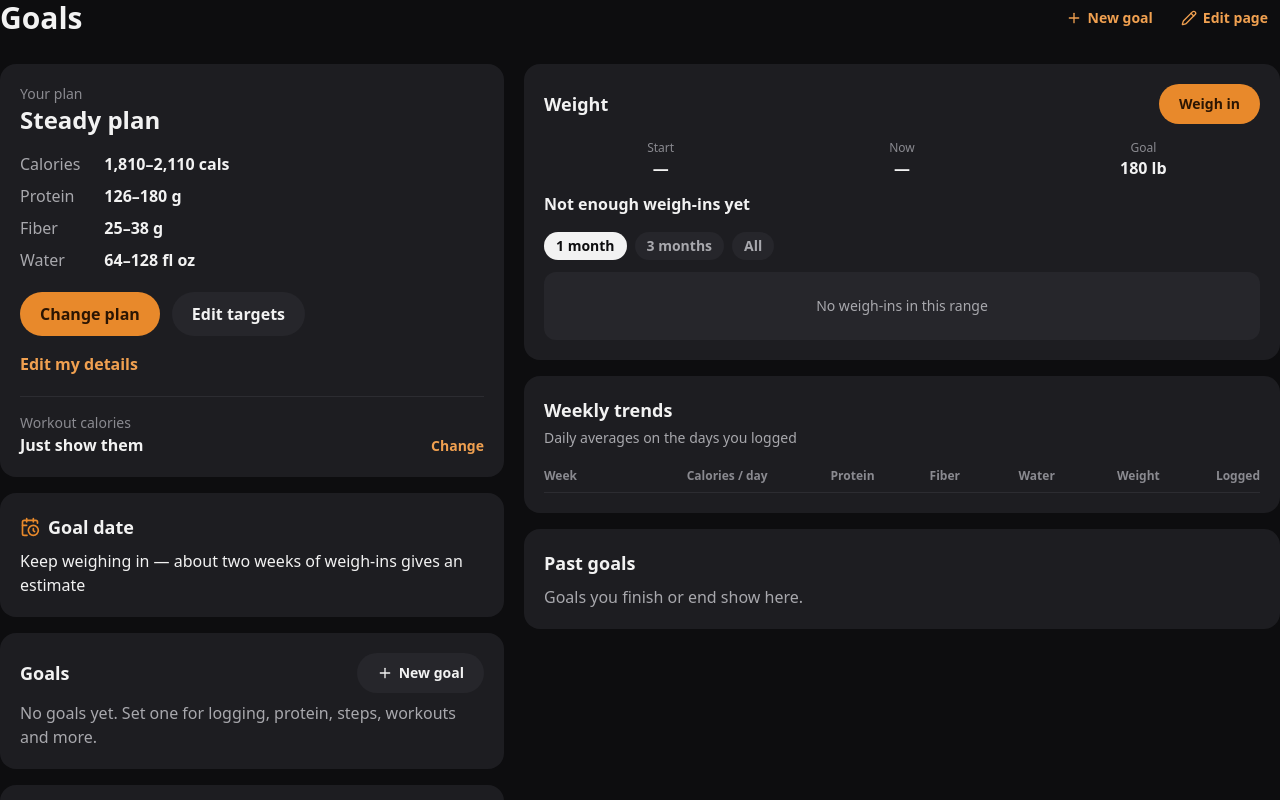
Test case: Goals › Goals shows targets and saves edits
Expected: the heading "Steady plan" is shown, [20, 103, 160, 136]
Expected: the text "1,810–2,110 cals" is shown, [104, 153, 230, 175]
Step 1. Click the button "Edit targets" → [238, 314], box [172, 292, 305, 336]
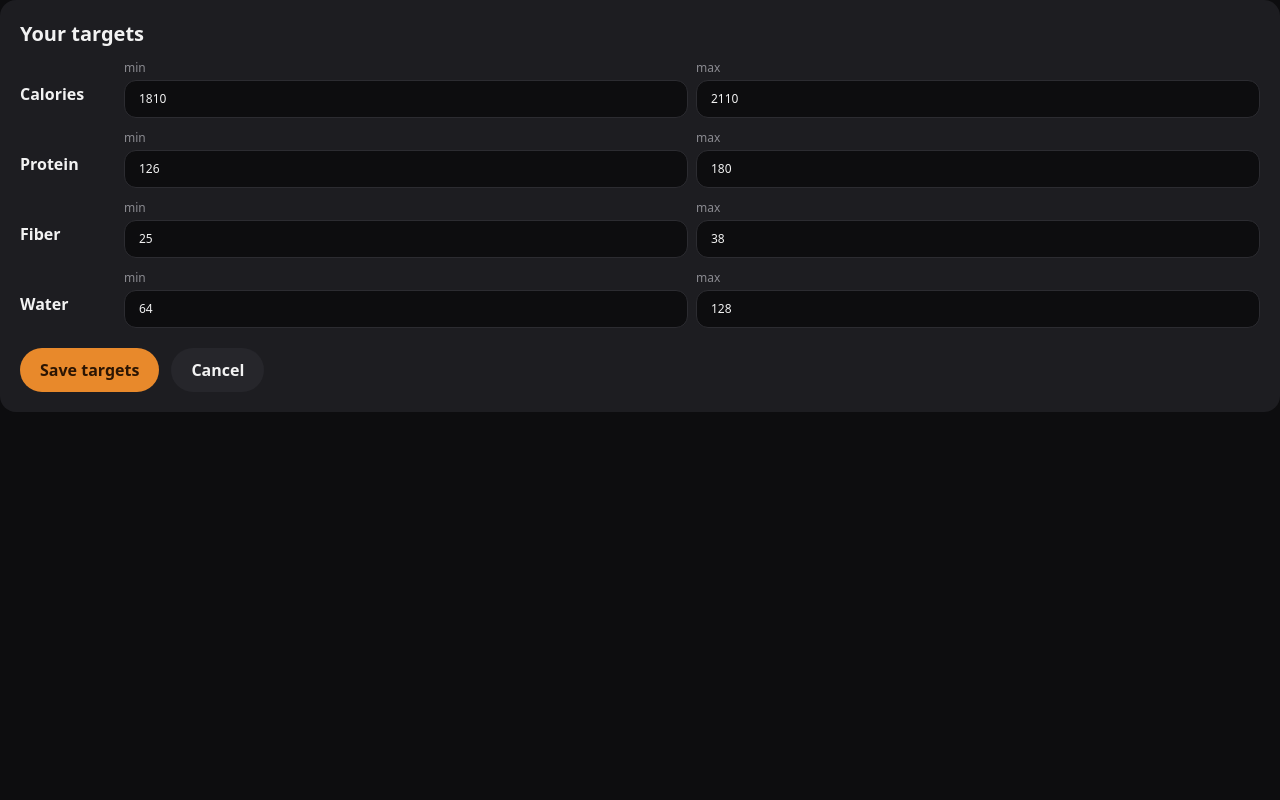
Expected: the number field named "Calories max" holds "2110"
Step 2. Replace the text in the number field named "Calories max" with "2000" → [978, 99], box [696, 80, 1260, 118]
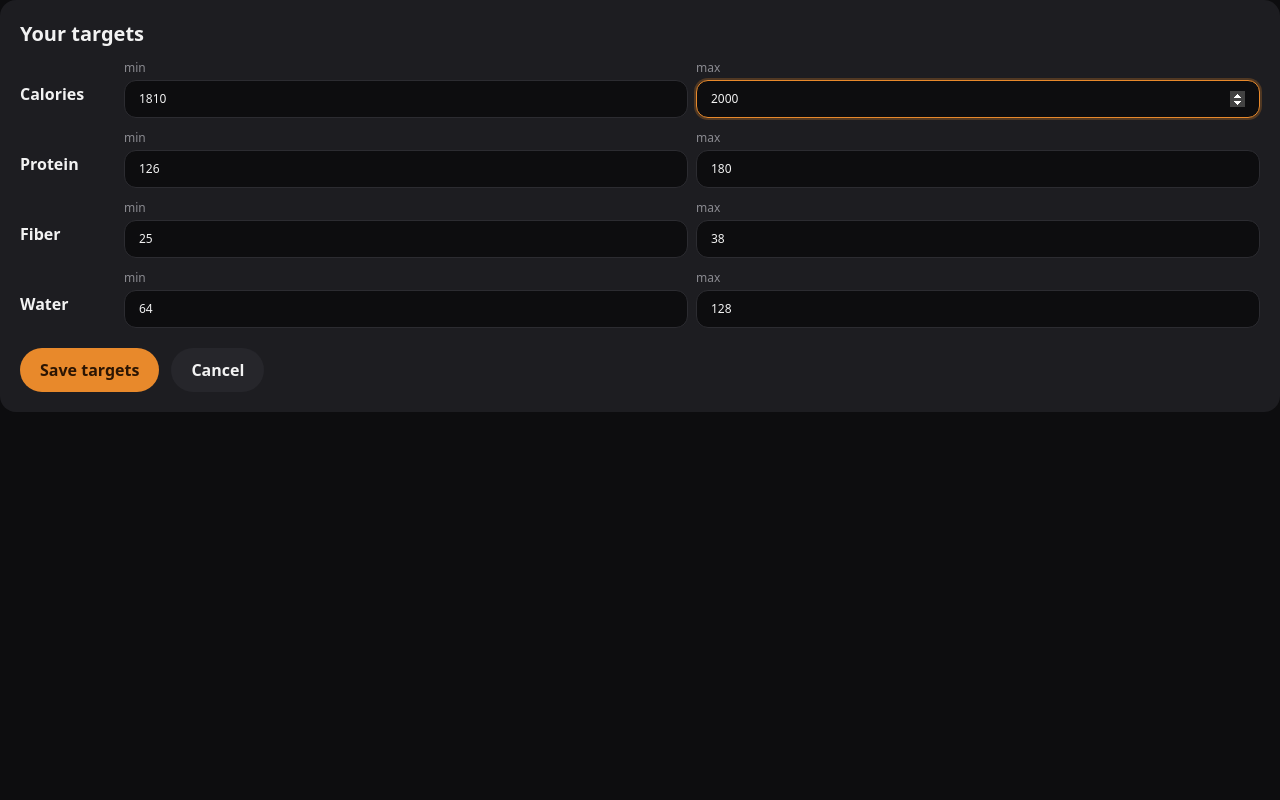
Step 3. Replace the text in the number field named "Water min (fl oz)" with "80" → [406, 309], box [124, 290, 688, 328]
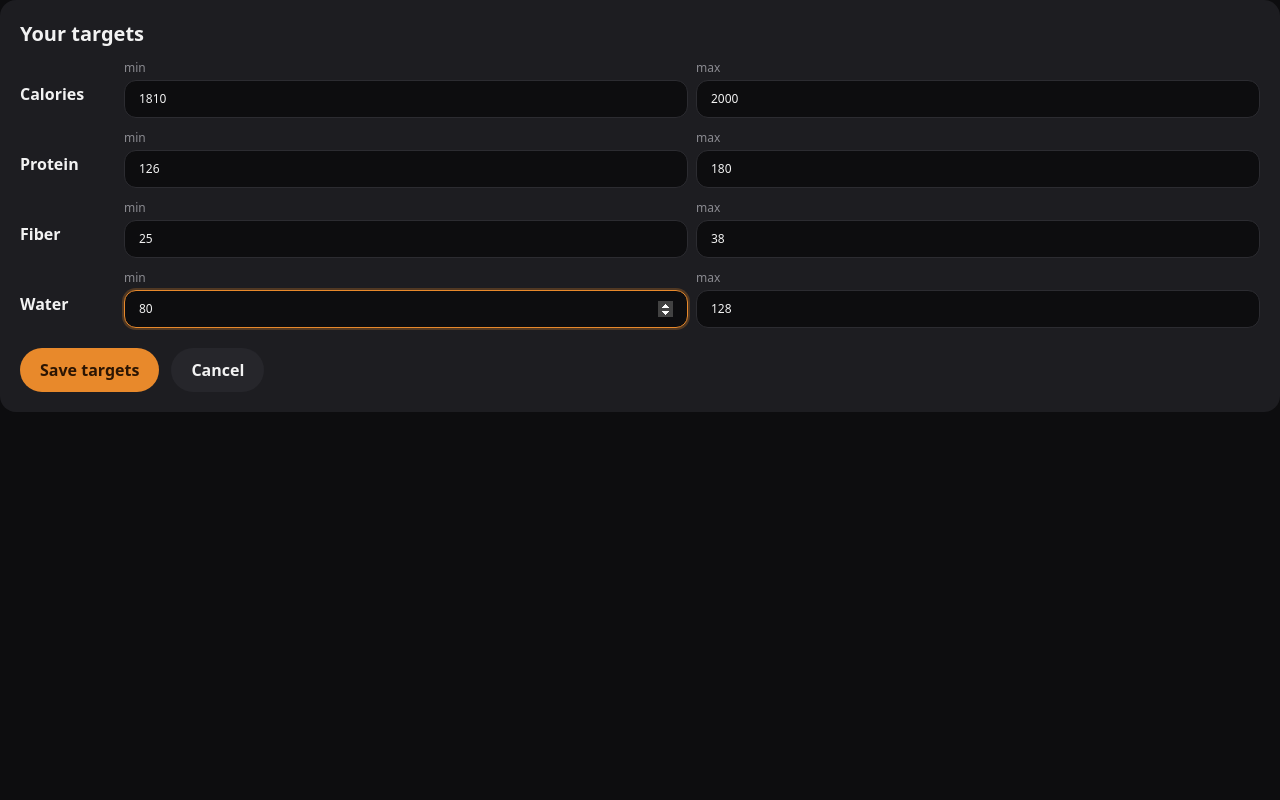
Step 4. Click the button "Save targets" → [90, 370], box [20, 348, 159, 392]
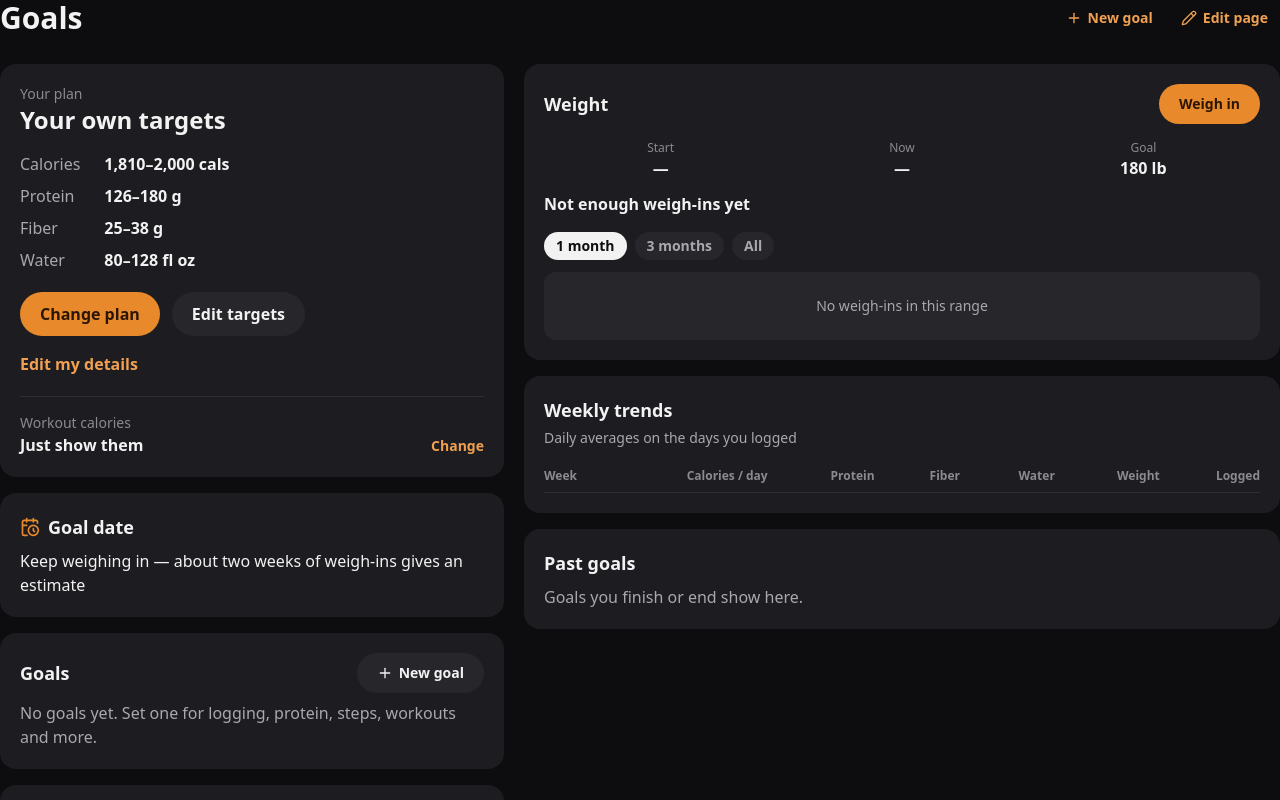
Expected: the heading "Your own targets" is shown, [20, 103, 226, 136]
Expected: the text "1,810–2,000 cals" is shown, [104, 153, 230, 175]
